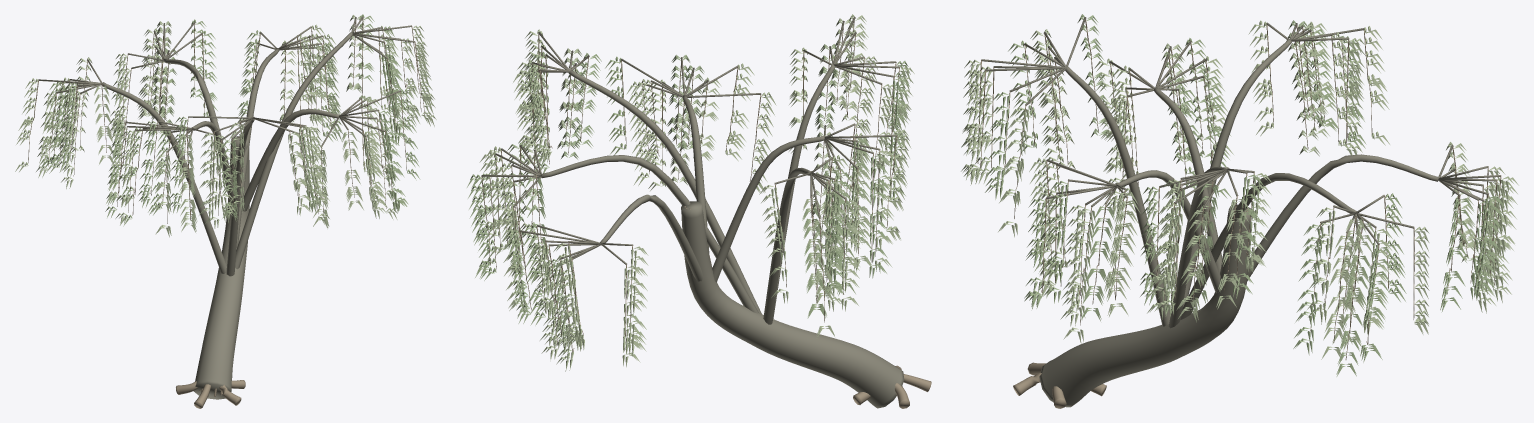
Rendered from grove-willow-10.glb.
3 renders of one model, left to right at view 1: azimuth 30°, elevation 25°; view 2: azimuth 150°, elevation 25°; view 3: azimuth 270°, elevation 25°, orthographic. The views are drawn at different scales.
Visible parts, largest first — view 1: grove-willow-10; view 2: grove-willow-10; view 3: grove-willow-10.
Part boxes in pixels (x1,y1,x2,y2): grove-willow-10: [15, 14, 436, 408]; grove-willow-10: [467, 14, 931, 408]; grove-willow-10: [961, 14, 1518, 408].
Size of the model in its own units: 8.44 by 6.82 by 9.11.
